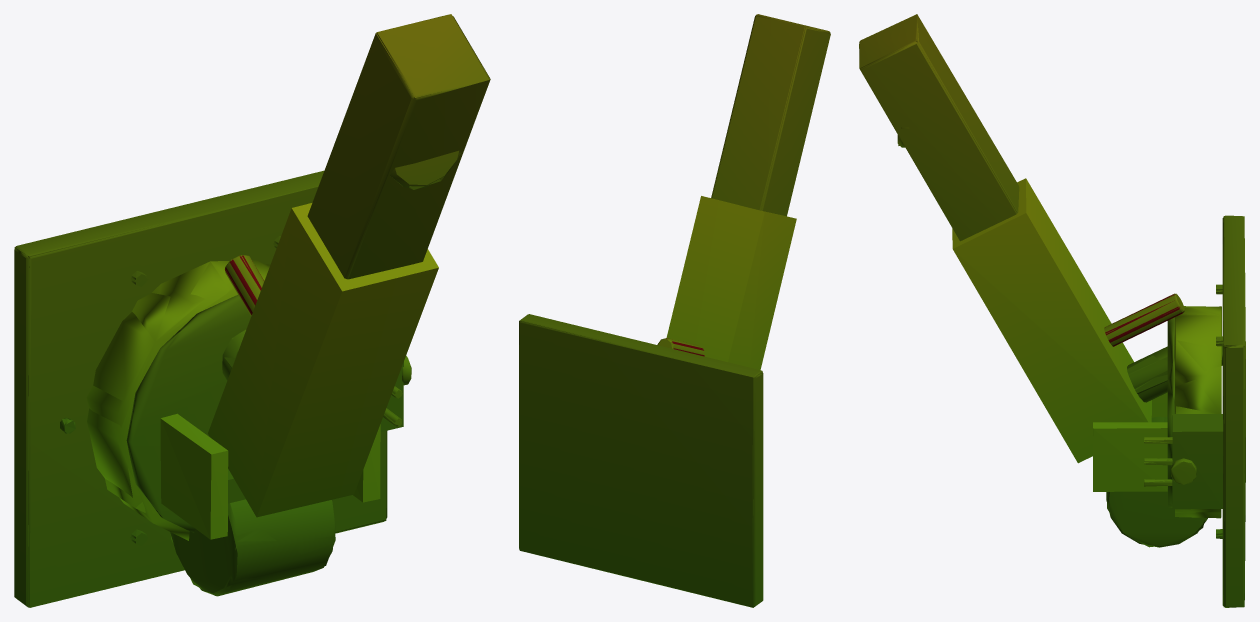
File: RCLModule_salvage_hauler_minefield_ordnance_carrier_sponsons_LODs.fbx
3 renders of one model, left to right at view 1: azimuth 30°, elevation 25°; view 2: azimuth 150°, elevation 25°; view 3: azimuth 270°, elevation 25°, orthographic. The views are drawn at different scales.
Parts seen in each view (by area): view 1: LOD1_RCLModule_salvage_hauler_minefield_ordnance_carrier_spo (×3), LOD2_RCLModule_salvage_hauler_minefield_ordnance_carrier_spo (×2); view 2: LOD1_RCLModule_salvage_hauler_minefield_ordnance_carrier_spo (×3), LOD2_RCLModule_salvage_hauler_minefield_ordnance_carrier_spo; view 3: LOD1_RCLModule_salvage_hauler_minefield_ordnance_carrier_spo (×3), LOD2_RCLModule_salvage_hauler_minefield_ordnance_carrier_spo (×2).
Boxes of the visible parts, left/top/right/bottom form: LOD1_RCLModule_salvage_hauler_minefield_ordnance_carrier_spo (×3): left=14, top=15, right=490, bottom=607; LOD2_RCLModule_salvage_hauler_minefield_ordnance_carrier_spo (×2): left=14, top=14, right=490, bottom=607; LOD1_RCLModule_salvage_hauler_minefield_ordnance_carrier_spo (×3): left=519, top=14, right=830, bottom=607; LOD2_RCLModule_salvage_hauler_minefield_ordnance_carrier_spo: left=519, top=14, right=830, bottom=607; LOD1_RCLModule_salvage_hauler_minefield_ordnance_carrier_spo (×3): left=859, top=14, right=1245, bottom=607; LOD2_RCLModule_salvage_hauler_minefield_ordnance_carrier_spo (×2): left=859, top=31, right=1244, bottom=607.
Size of the model in its own units: 32 by 58.74 by 39.87.
